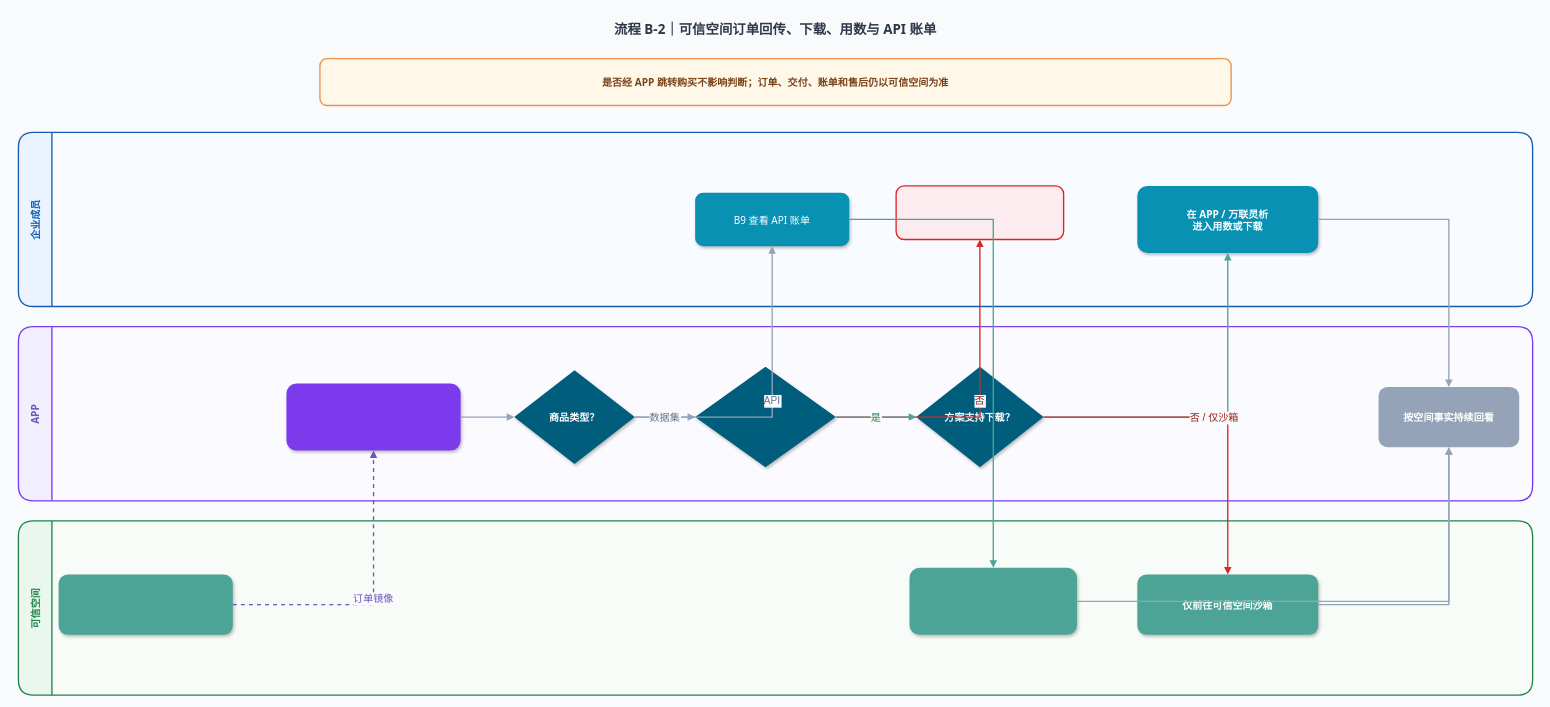
Some shapes in this 1550 by 707 pixel diagram are drawn without their labels. The shapes that lost their labels are listed below. From the top down, each one's centre as x and y in pixels, then its label:
At point 979,212: "提示开通找数买数".
At point 373,418: "创建只读订单镜像 展示交付摘要".
At point 766,418: "B8 企业已开通找数买数？".
At point 146,605: "B7 空间订单权威回传".
At point 994,602: "跳转空间账单页 APP 不落费用明细".
